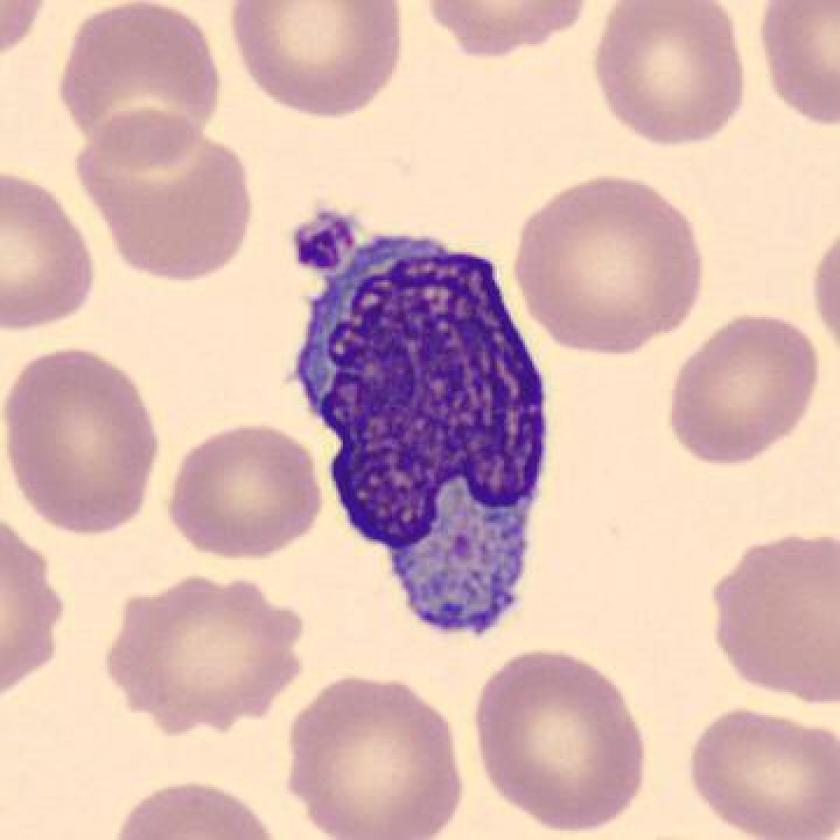monocyte: (272, 207, 580, 654)
